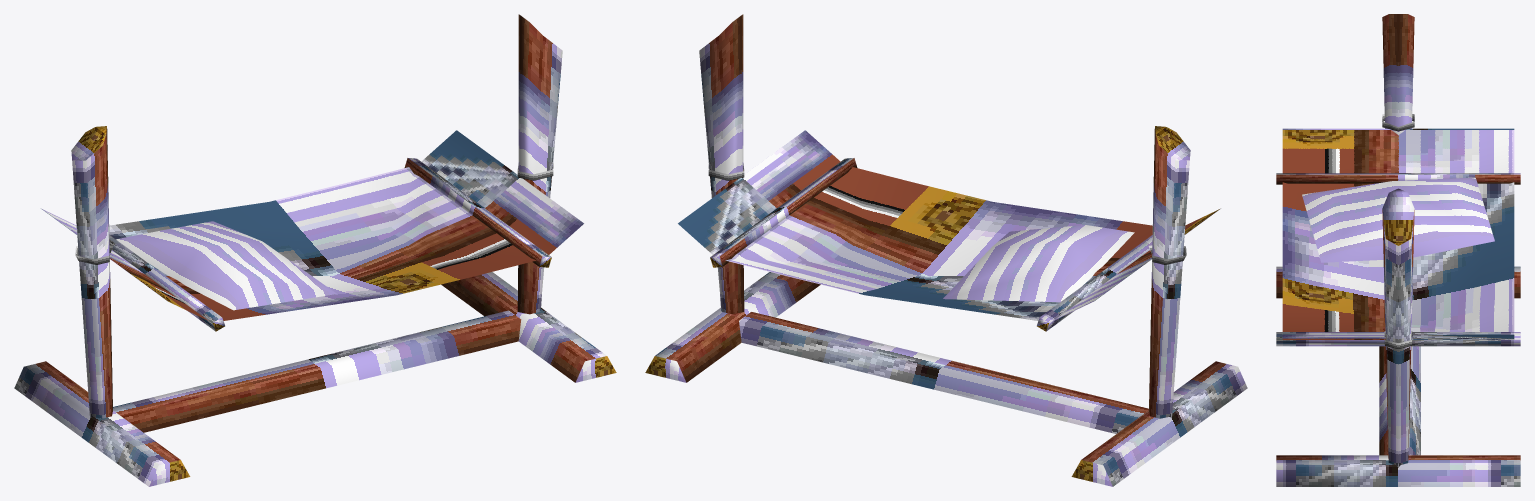
Rendered from rmk_gdn_bedS.dae.
3 renders of one model, left to right at view 1: azimuth 30°, elevation 25°; view 2: azimuth 150°, elevation 25°; view 3: azimuth 270°, elevation 25°, orthographic. The views are drawn at different scales.
Visible parts, largest first — view 1: rmk_gdn_bedS; view 2: rmk_gdn_bedS; view 3: rmk_gdn_bedS.
Boxes of the visible parts, x1,y1,x2,y2 form: rmk_gdn_bedS: [14, 14, 616, 486]; rmk_gdn_bedS: [645, 14, 1247, 486]; rmk_gdn_bedS: [1276, 14, 1520, 486].
Size of the model in its own units: 63.38 by 39.2 by 30.4.
2 materials, 2 textured.
